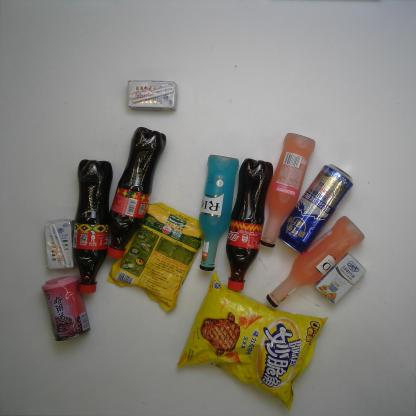Alcohol: (265, 214, 366, 309), (278, 161, 354, 256), (256, 132, 316, 248), (192, 152, 242, 272)
Canned Food: (39, 274, 91, 342)
Drink: (105, 124, 169, 260), (224, 156, 275, 292), (70, 157, 113, 294)
Milk: (316, 252, 367, 306), (126, 78, 183, 112), (44, 217, 78, 272)
Puffed Food: (174, 270, 330, 412)
Seasoner: (105, 200, 208, 314)
